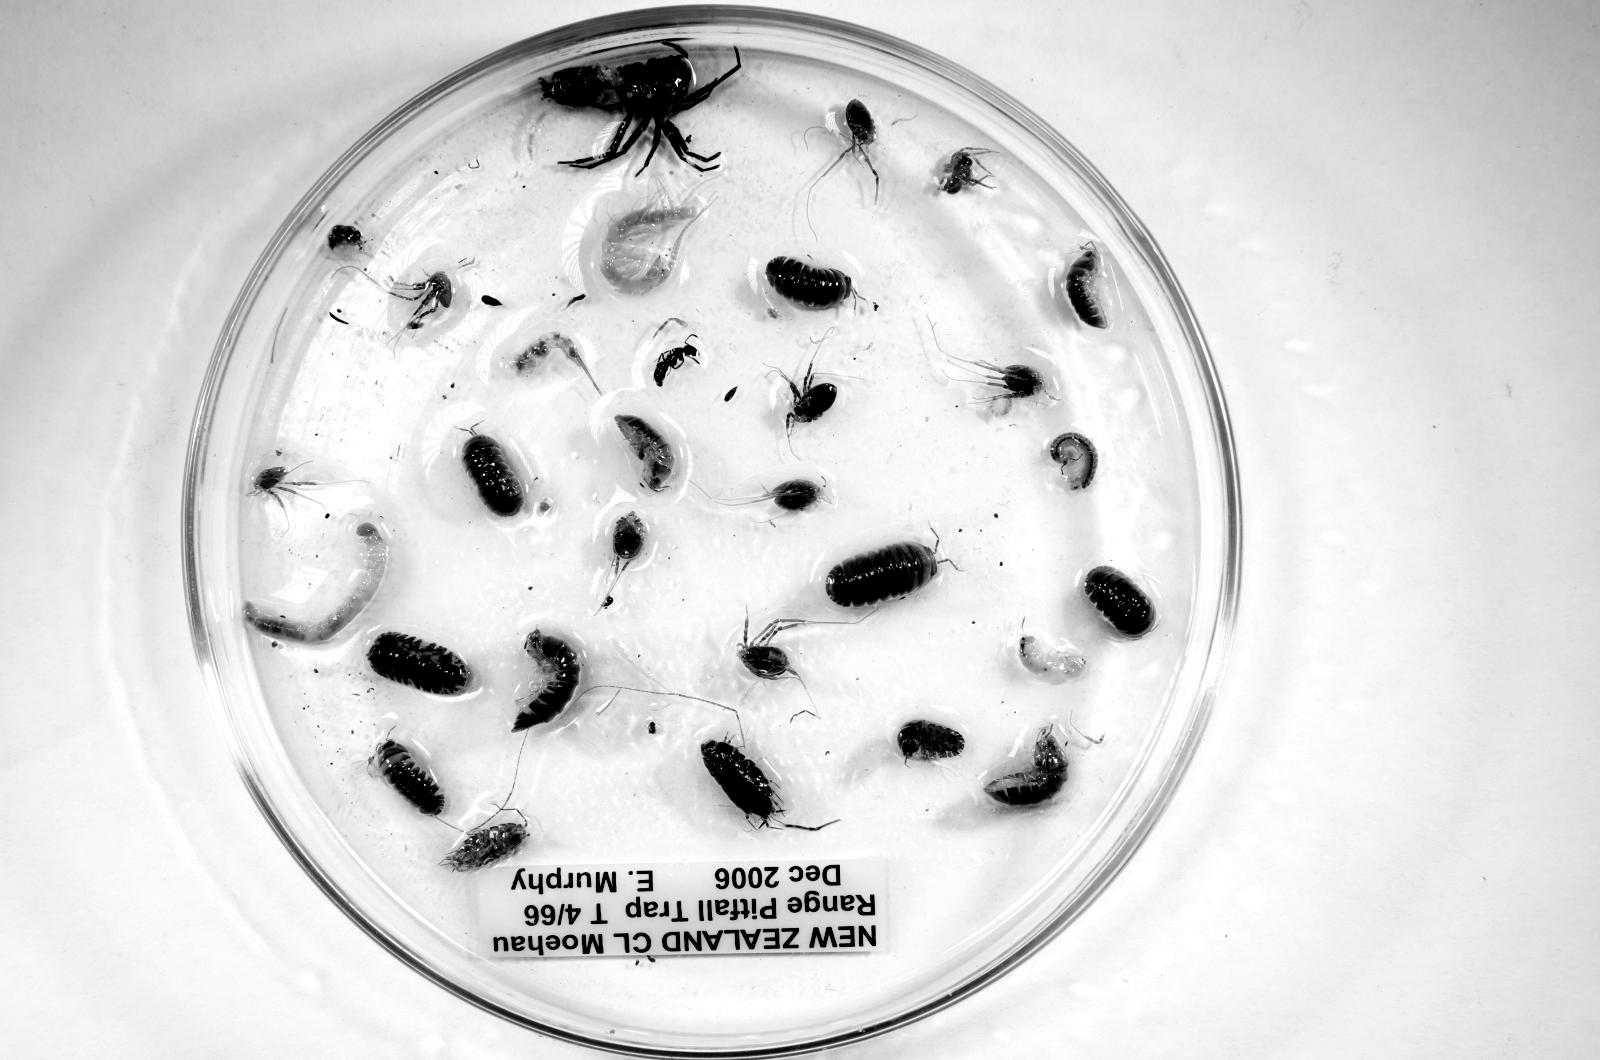amphipoda: (1018, 633, 1086, 681)
araneae: (539, 41, 741, 173), (938, 147, 994, 194)
chilopoda: (598, 181, 714, 294)
diplopoda: (244, 522, 387, 643), (1049, 432, 1097, 489)
formicidae: (653, 342, 699, 387)
isopoda: (825, 542, 939, 607), (513, 629, 581, 732), (701, 740, 781, 826), (984, 725, 1068, 806), (367, 631, 469, 695), (371, 739, 445, 816), (1083, 565, 1156, 639), (463, 435, 526, 516), (615, 415, 675, 492), (766, 257, 853, 308), (440, 822, 529, 871), (1064, 246, 1107, 328), (897, 720, 964, 760)
opiliones: (601, 511, 647, 608), (737, 617, 801, 680), (786, 364, 837, 433), (404, 271, 452, 329), (254, 467, 317, 510), (767, 479, 824, 513), (845, 99, 876, 148), (1001, 365, 1044, 399)
